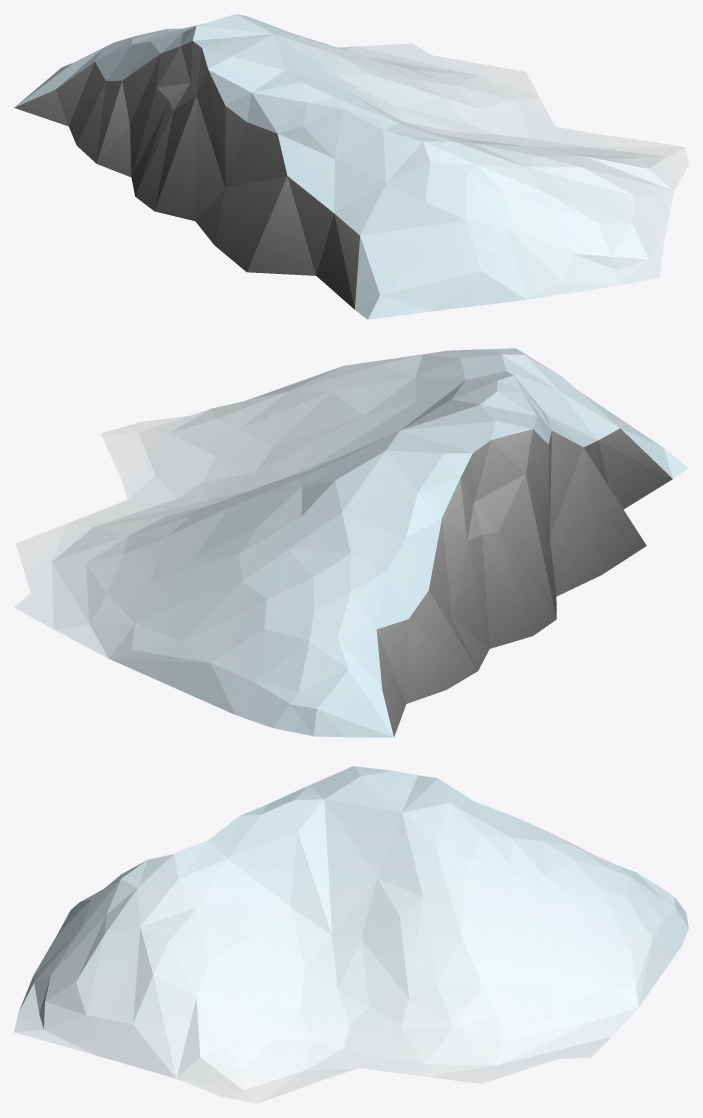
3 views of the same model, one above another, from view 1: azimuth 30°, elevation 25°; view 2: azimuth 150°, elevation 25°; view 3: azimuth 270°, elevation 25° (orthographic). The views are drawn at different scales.
Parts seen in each view (by area): view 1: SnowyCliff; view 2: SnowyCliff; view 3: SnowyCliff.
Part boxes in pixels (x1,y1,x2,y2): SnowyCliff: [14, 14, 688, 319]; SnowyCliff: [14, 348, 688, 737]; SnowyCliff: [14, 766, 688, 1103].
Bounding box in the file's own units: 44.32 × 13.58 × 58.35.
Materials: 1 (1 with a texture image).
